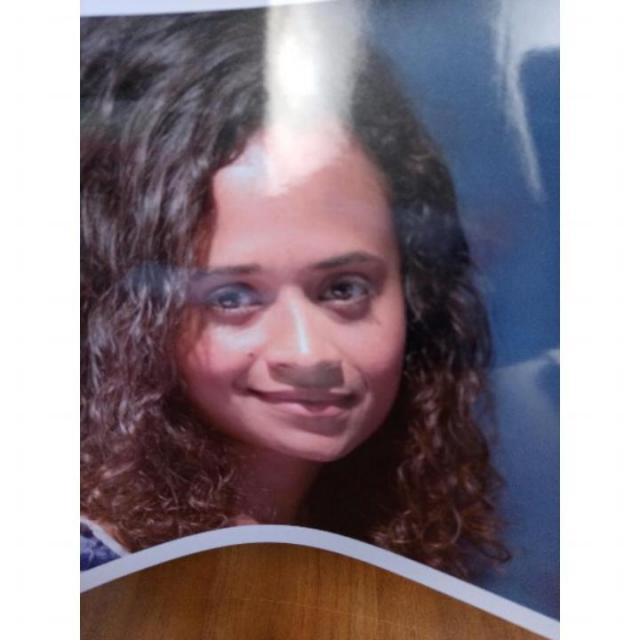photo: (81, 0, 557, 608)
